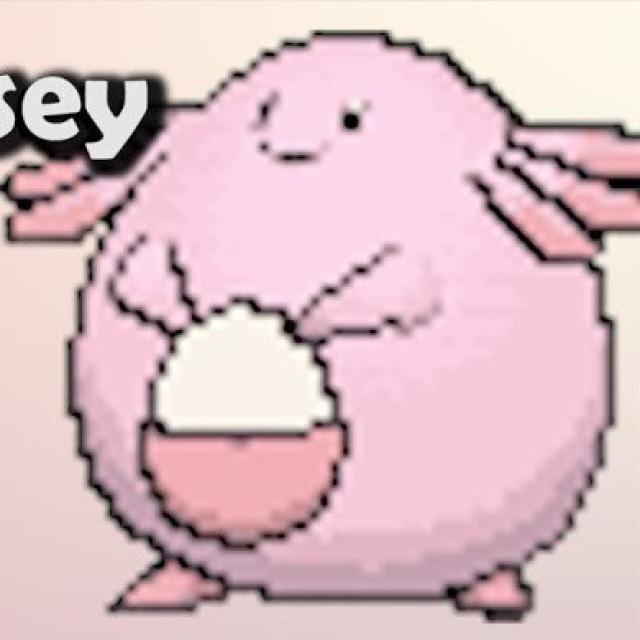Chansey: (71, 28, 614, 614)
